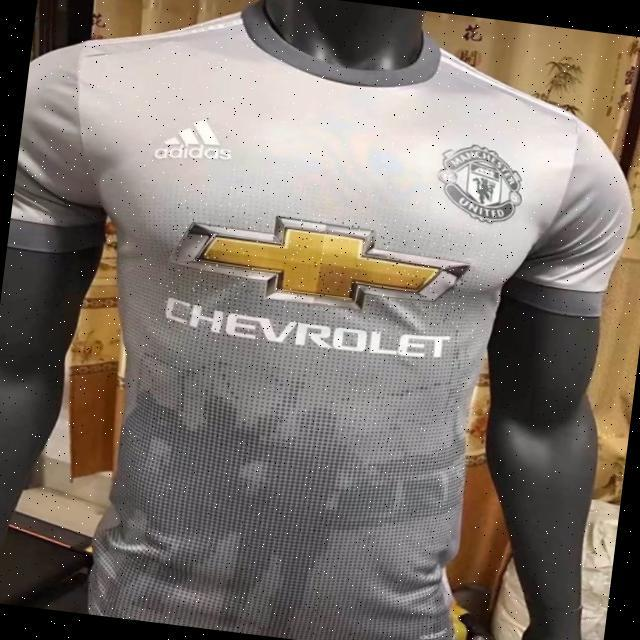Adidas: (152, 110, 235, 171)
Chevrolet: (160, 196, 473, 367)
